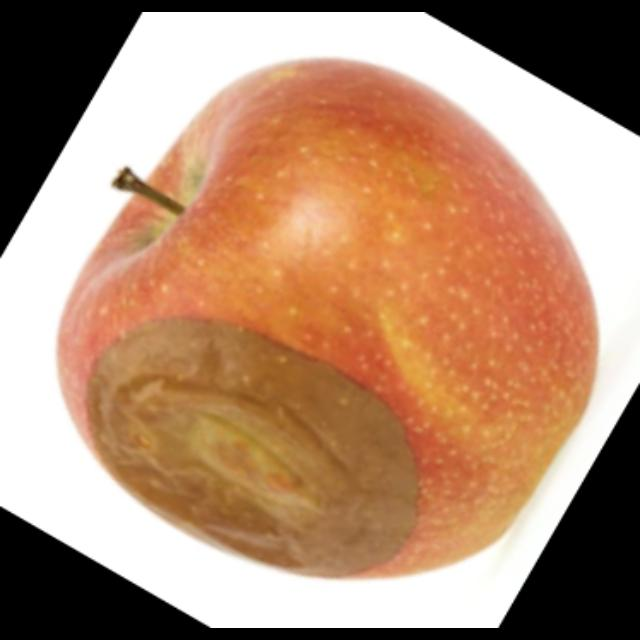Apel Tidak Segar: (37, 56, 585, 587)
